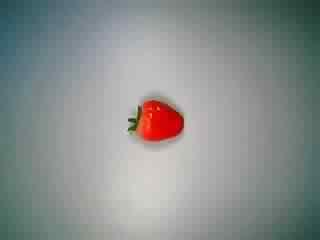strawberry: (121, 90, 189, 154)
